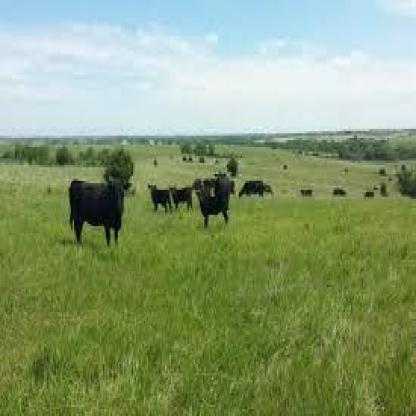cow: (70, 176, 128, 247), (197, 191, 230, 230), (168, 183, 195, 215), (146, 183, 172, 213), (238, 181, 264, 197)
